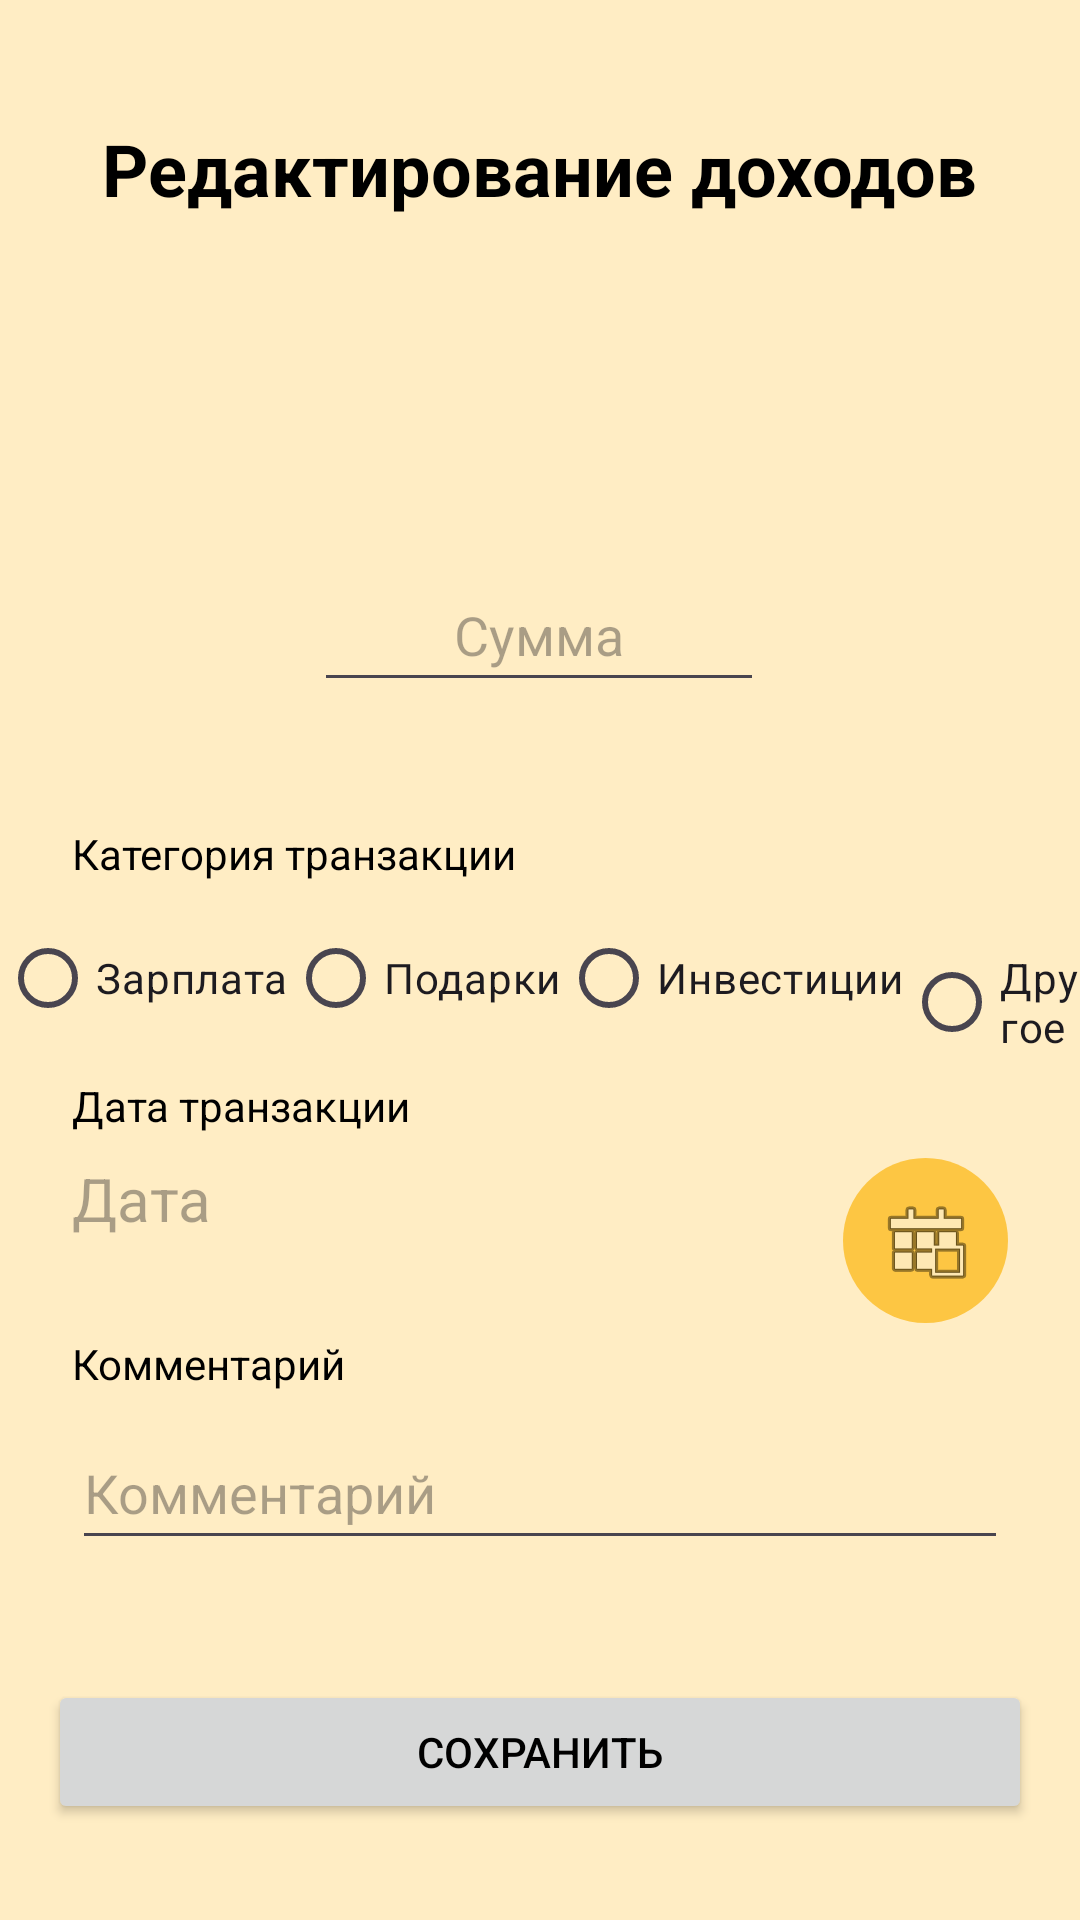

Point at icon controls on the screen. Image size 1080x1920, points as (x=x, y=y).
today: (x=925, y=1240)
